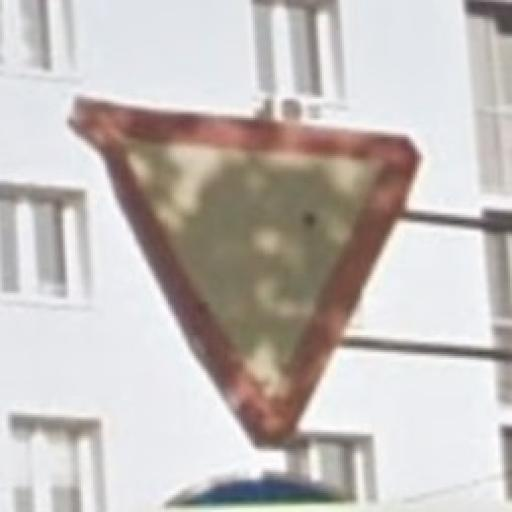traffic_sign: (70, 98, 424, 448)
